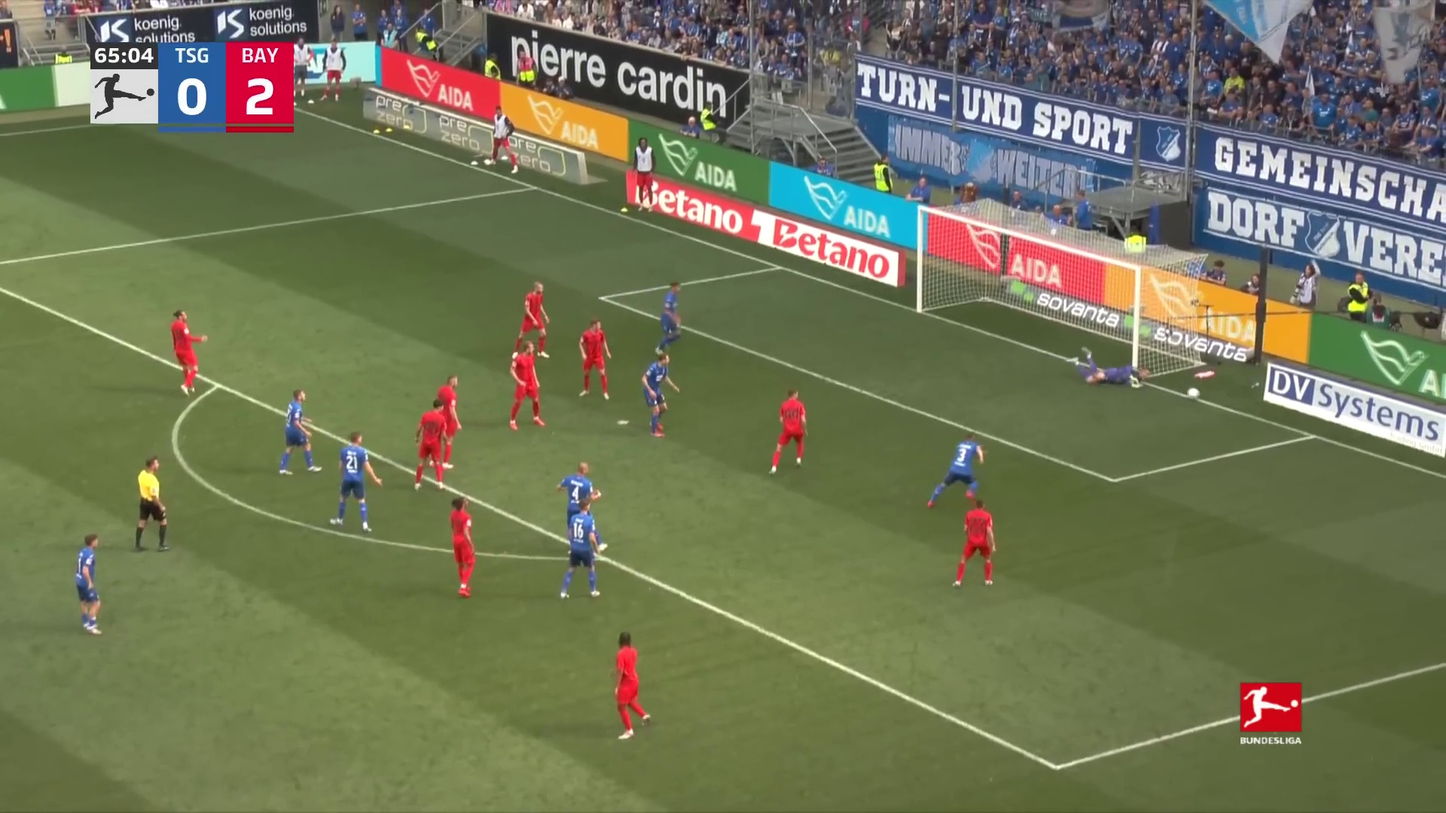ball: (1184, 387, 1203, 400)
player: (325, 430, 385, 535), (556, 499, 611, 602), (607, 630, 655, 742), (924, 431, 991, 511), (949, 498, 1001, 591), (273, 387, 323, 478), (553, 460, 607, 543), (764, 388, 813, 477), (164, 308, 212, 398), (68, 532, 109, 637), (503, 344, 551, 433), (443, 496, 482, 600), (637, 353, 683, 439), (510, 278, 556, 361), (409, 400, 450, 493), (573, 317, 617, 403), (1070, 346, 1149, 390), (432, 373, 465, 473), (649, 280, 689, 355)
referee: (129, 456, 174, 555)
